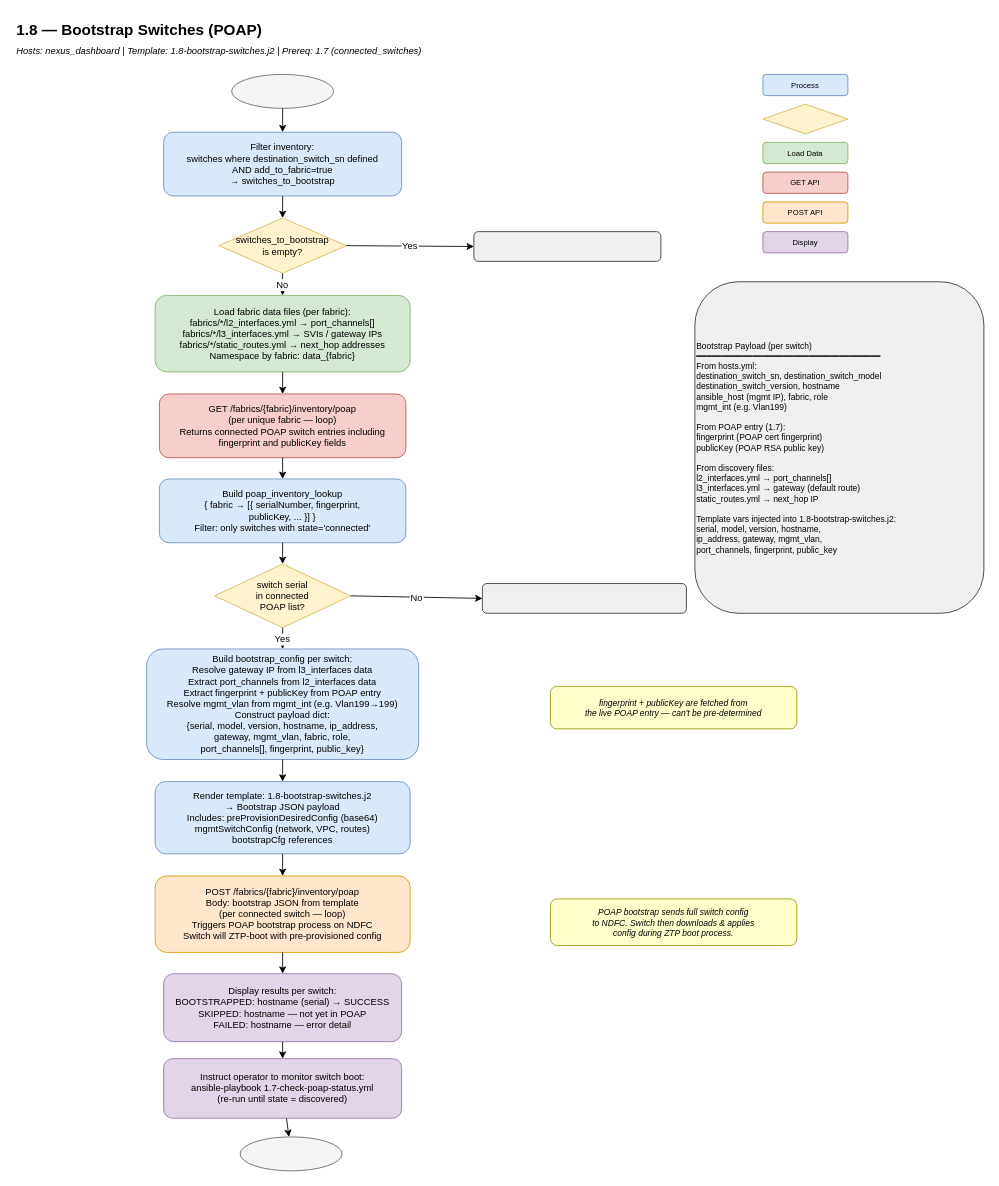
Some shapes in this 999 by 1186 pixel diagram are drawn without their labels. The shapes that lost their labels are listed below. From the top down, each one's centre as x and y in pixels, then its label:
At point (282, 91): "START".
At point (805, 118): "Decision".
At point (567, 246): "No POAP switches — skip".
At point (584, 598): "Skip (not yet connected — wait for 1.7)".
At point (290, 1153): "END".
